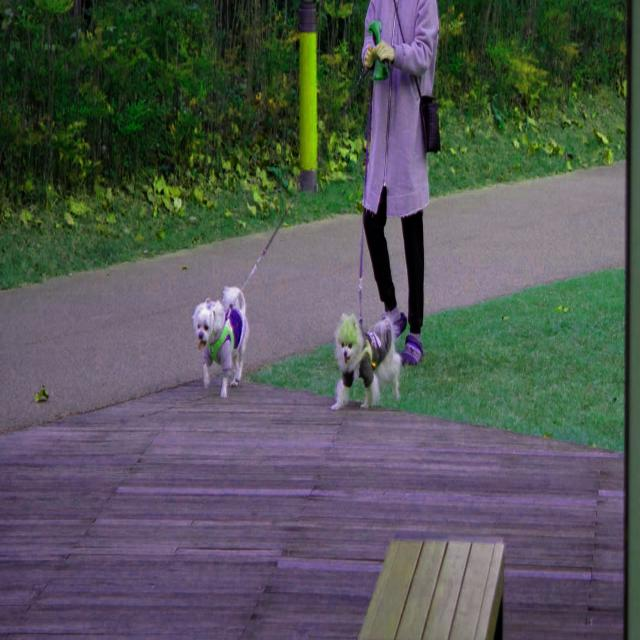Leashed_Dog: (192, 42, 390, 398), (331, 42, 401, 414)
